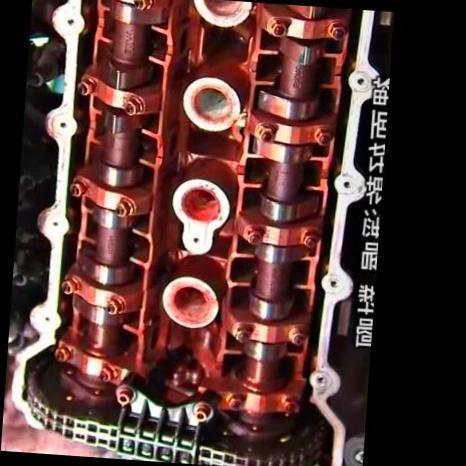hole: (66, 14, 76, 26), (342, 178, 352, 190), (354, 74, 364, 85), (316, 374, 326, 385), (59, 118, 68, 130), (330, 278, 340, 288), (51, 218, 59, 226), (43, 312, 50, 321)
